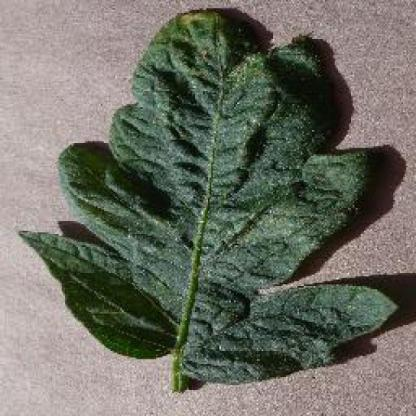Tomato_Spider_Mites: (25, 12, 398, 383)
